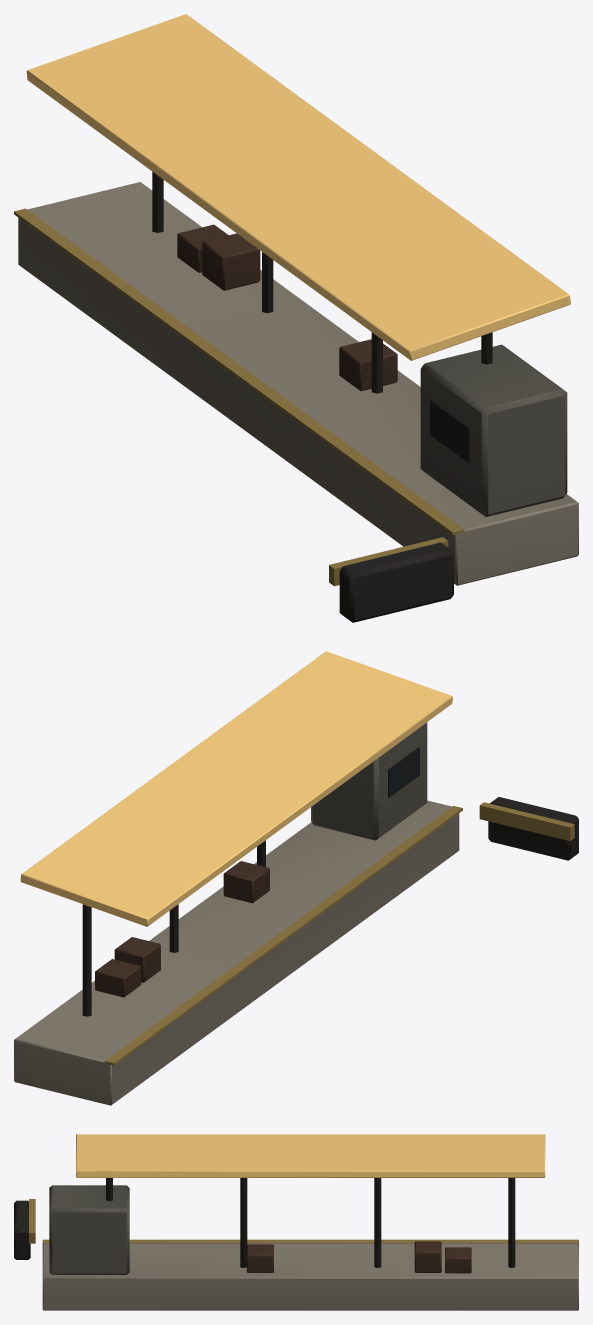
The model's file is train_station.glb.
3 views of the same model, one above another, from view 1: azimuth 30°, elevation 25°; view 2: azimuth 150°, elevation 25°; view 3: azimuth 270°, elevation 25° (orthographic). The views are drawn at different scales.
Parts seen in each view (by area): view 1: Station; view 2: Station; view 3: Station.
Part boxes in pixels (x1,y1,x2,y2): Station: (14, 14, 578, 622); Station: (14, 651, 578, 1105); Station: (14, 1134, 578, 1310).
Bounding box in the file's own units: 1.28 × 1.05 × 3.71.
